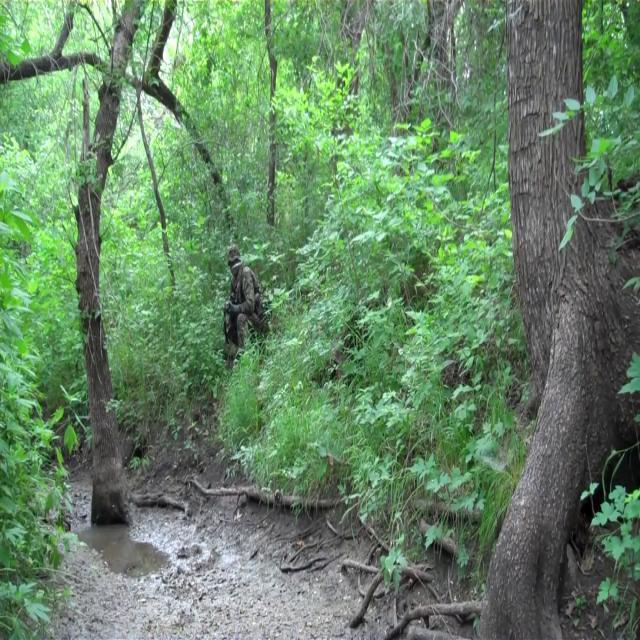MIL_Pax: (222, 247, 270, 368)
